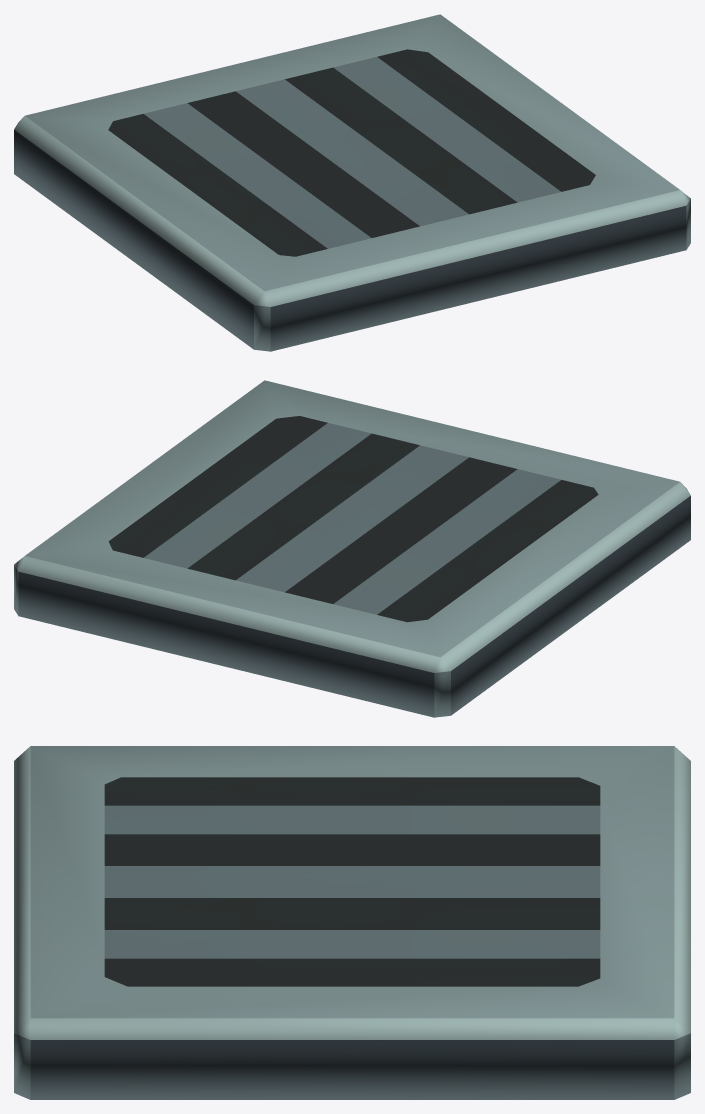
The model's file is drain_large.fbx.
3 renders of one model, top to bottom at view 1: azimuth 30°, elevation 25°; view 2: azimuth 150°, elevation 25°; view 3: azimuth 270°, elevation 25°, orthographic. The views are drawn at different scales.
Visible parts, largest first — view 1: drain_large; view 2: drain_large; view 3: drain_large.
Boxes of the visible parts, bbox=[...] form: drain_large: bbox=[14, 14, 690, 351]; drain_large: bbox=[14, 380, 690, 717]; drain_large: bbox=[14, 746, 690, 1099].
Bounding box in the file's own units: 205 × 25 × 205.
